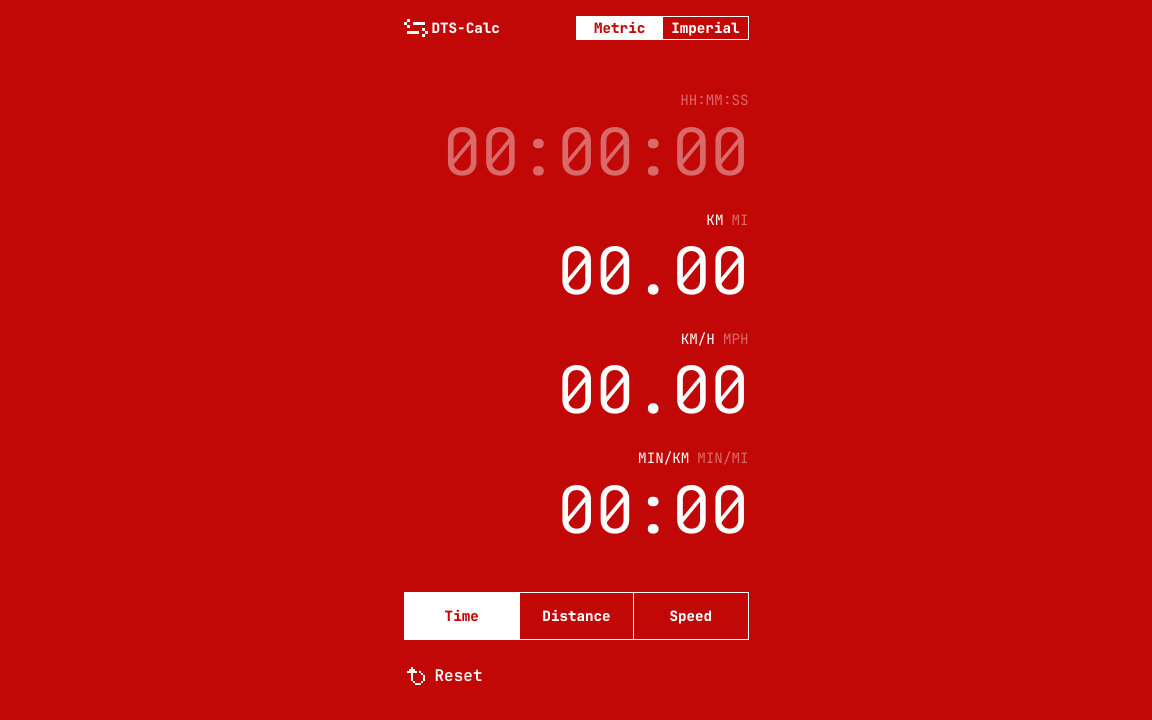
Scenario: the shared controls on the calculator screen › reset: a ghost button with its icon hidden; a click clears the values and the long press stays wired
Type "10" into the field with id "distanceInput" at (576, 270), box left=404, top=228, right=748, bottom=313
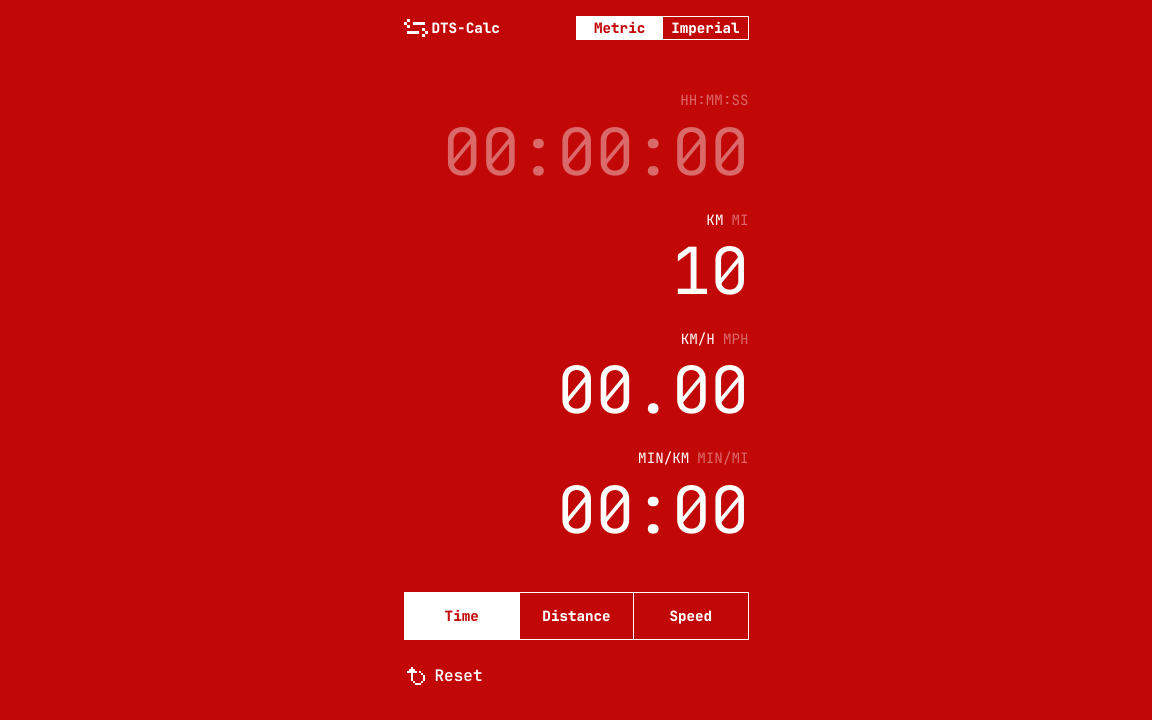
Leave the field with id "distanceInput", box left=404, top=228, right=748, bottom=313
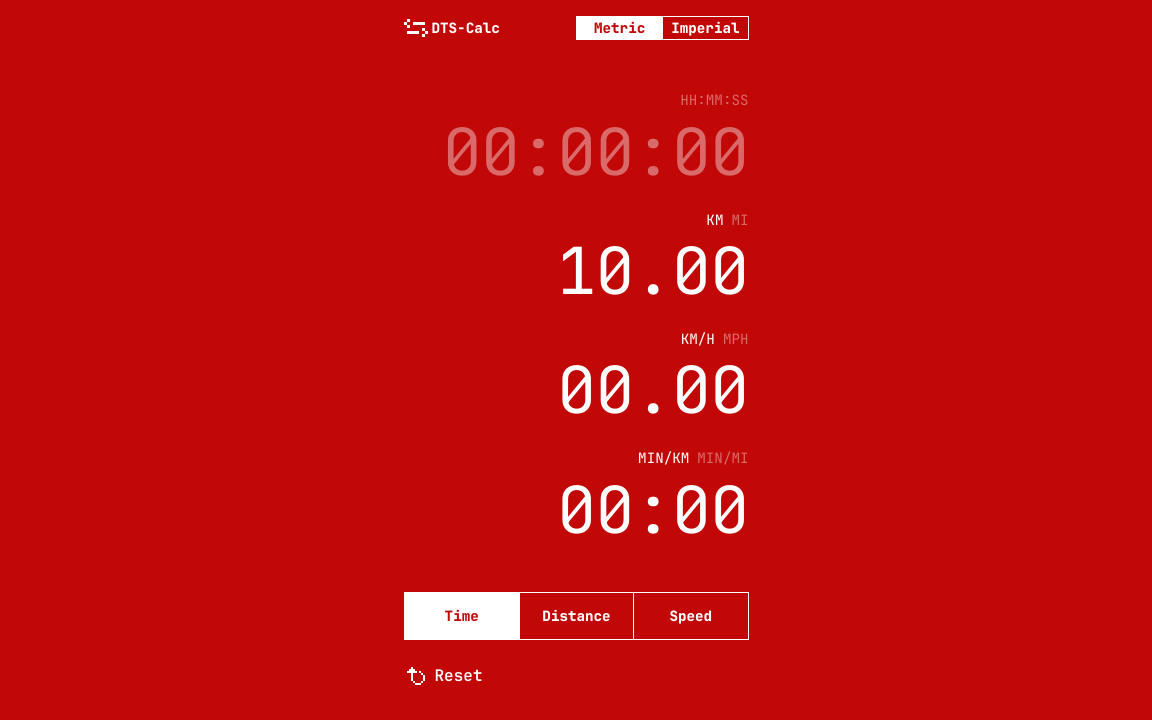
Expected: the field with id "distanceInput" holds "10.00", left=404, top=228, right=748, bottom=313
Press the mouse on the button "Reset" at (444, 676), box left=388, top=656, right=500, bottom=696
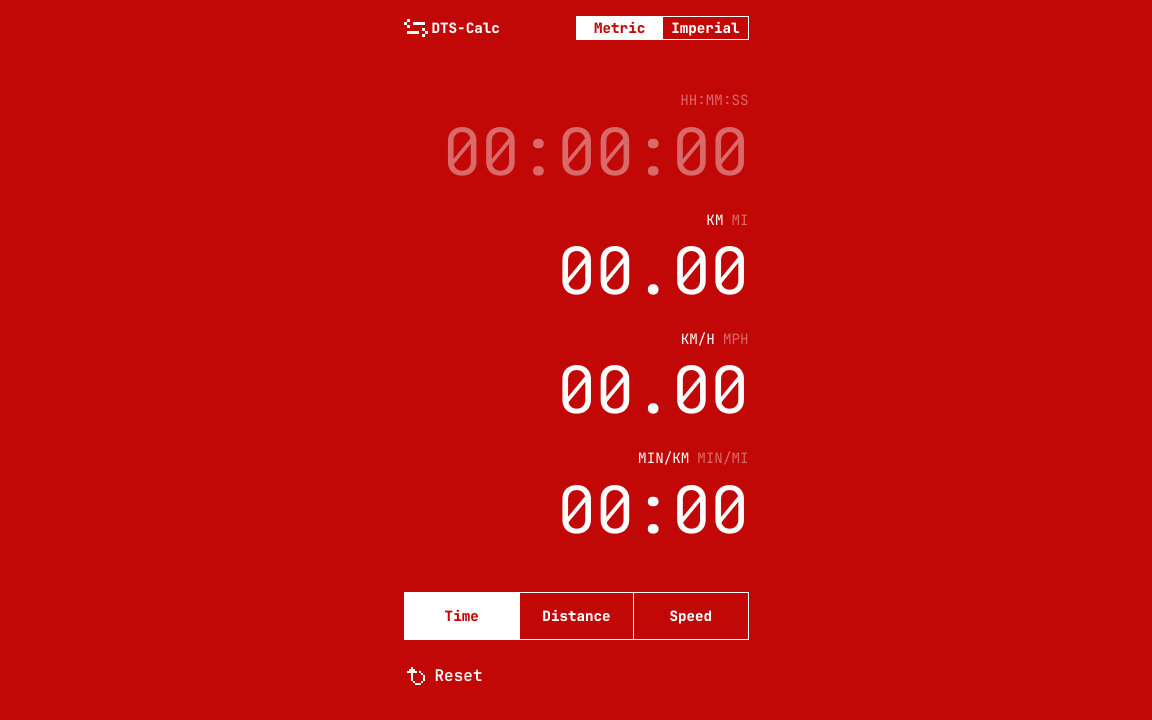
Expected: the field with id "distanceInput" is empty, left=404, top=228, right=748, bottom=313
